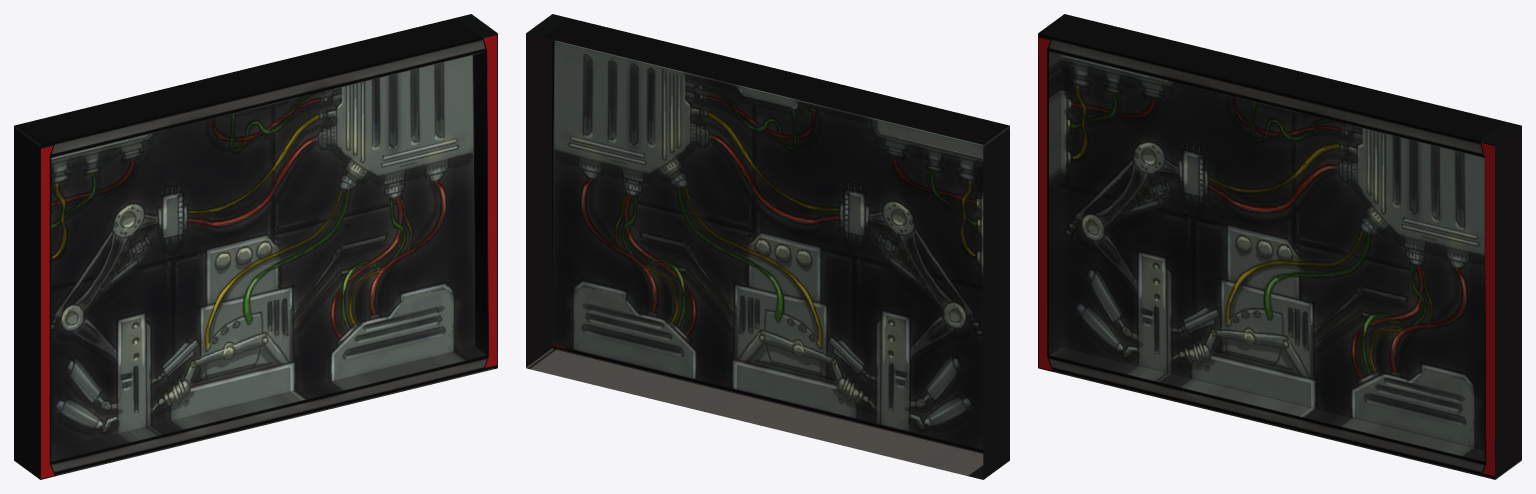
The model's file is WallMid2.fbx.
The picture shows the model from 3 angles, left to right: view 1: azimuth 30°, elevation 25°; view 2: azimuth 150°, elevation 25°; view 3: azimuth 330°, elevation 25°; orthographic projection.
Parts seen in each view (by area): view 1: Midwall2; view 2: Midwall2; view 3: Midwall2.
Boxes of the visible parts, x1,y1,x2,y2 form: Midwall2: (14,14,497,479); Midwall2: (526,14,1009,479); Midwall2: (1038,14,1521,479).
Bounding box in the file's own units: 12.7 × 8.89 × 1.27.
